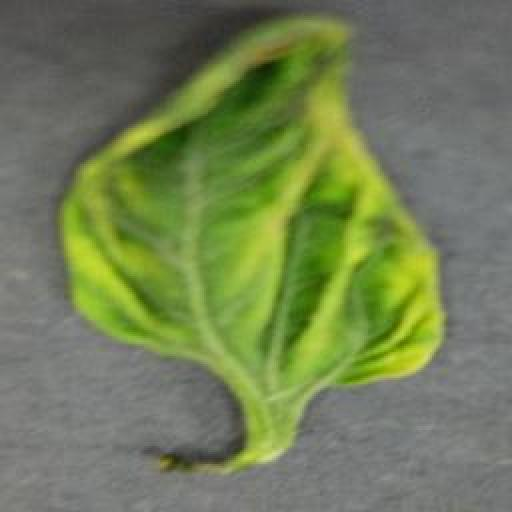disease_tomato: (53, 15, 448, 388)
